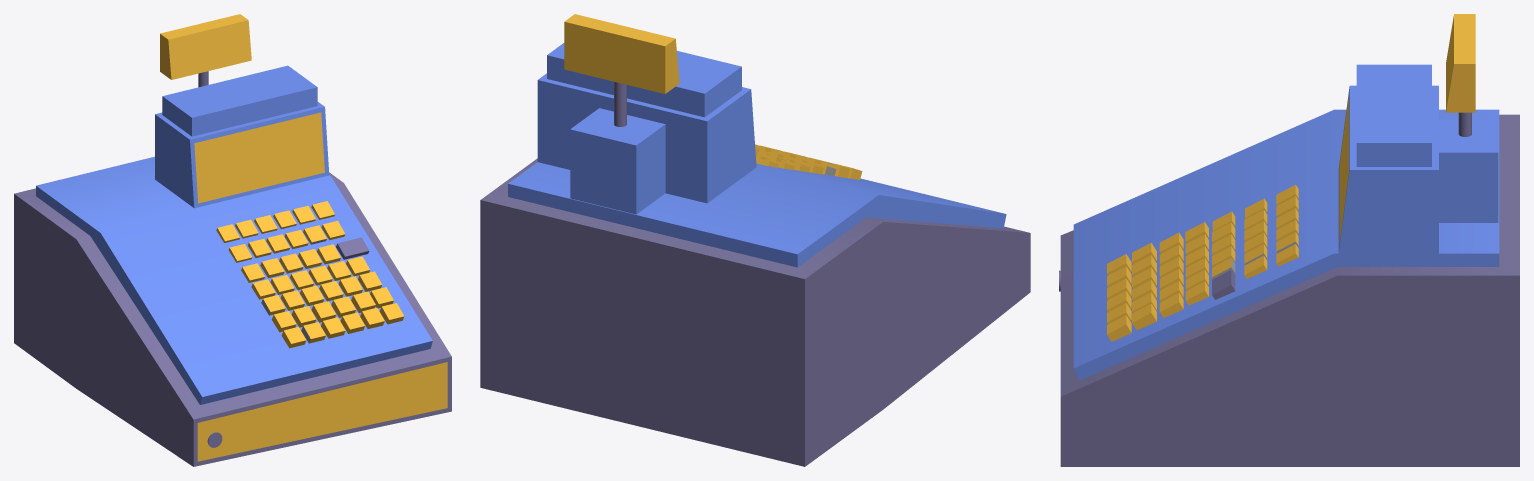
File: kasa_01.fbx
3 renders of one model, left to right at view 1: azimuth 30°, elevation 25°; view 2: azimuth 150°, elevation 25°; view 3: azimuth 270°, elevation 25°, orthographic. The views are drawn at different scales.
Parts seen in each view (by area): view 1: kasa_01; view 2: kasa_01; view 3: kasa_01.
Boxes of the visible parts, bbox=[...] form: kasa_01: bbox=[14, 14, 451, 466]; kasa_01: bbox=[480, 14, 1030, 466]; kasa_01: bbox=[1059, 14, 1519, 466].
Size of the model in its own units: 0.8746 by 0.9408 by 1.06.
